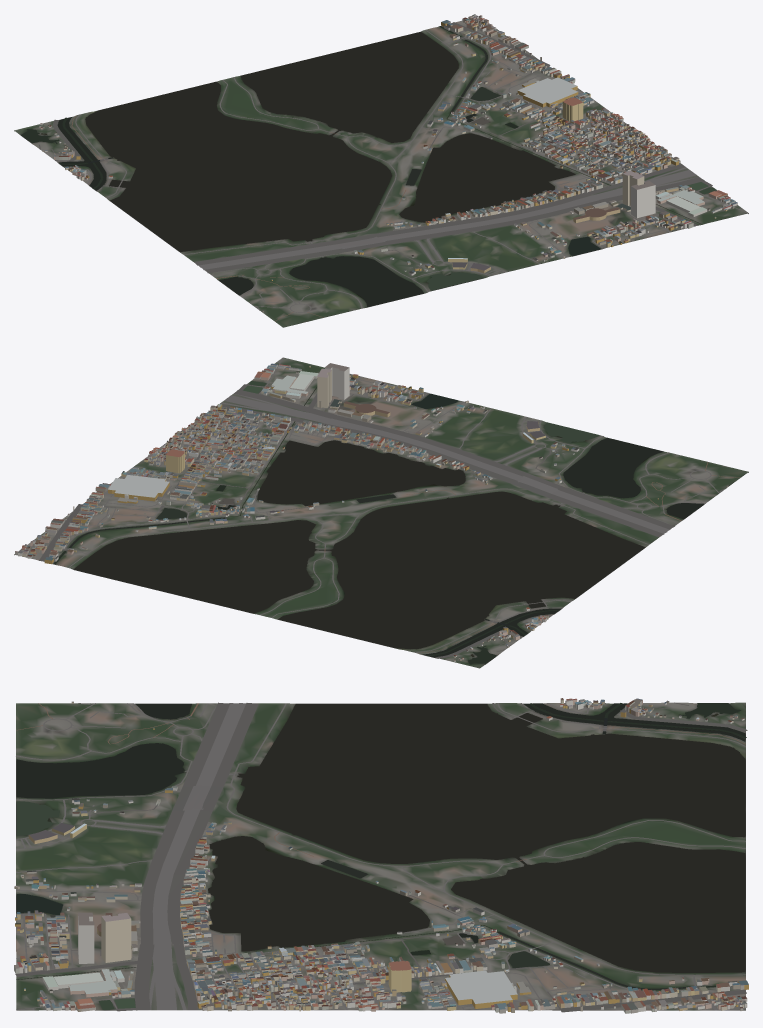
The picture shows the model from 3 angles, top to bottom: view 1: azimuth 30°, elevation 25°; view 2: azimuth 150°, elevation 25°; view 3: azimuth 270°, elevation 25°; orthographic projection. The views are drawn at different scales.
Visible parts, largest first — view 1: water, ground, buildings, roads; view 2: water, ground, buildings, roads; view 3: water, ground, buildings, roads.
Boxes of the visible parts, <box> form: water: <box>21,26,715,306</box>; ground: <box>14,18,748,327</box>; buildings: <box>39,14,737,312</box>; roads: <box>39,18,748,321</box>; water: <box>53,381,703,664</box>; ground: <box>14,357,748,668</box>; buildings: <box>15,363,728,661</box>; roads: <box>17,357,740,658</box>; water: <box>16,703,746,1009</box>; ground: <box>16,702,745,1010</box>; buildings: <box>14,698,748,1013</box>; roads: <box>15,702,747,1012</box>.
Size of the model in its own units: 1420 by 93.89 by 1412.
